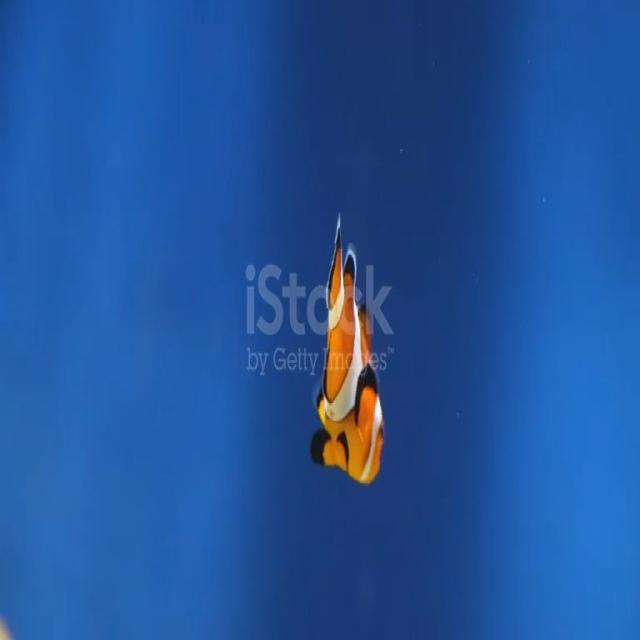fish: (310, 214, 385, 486)
